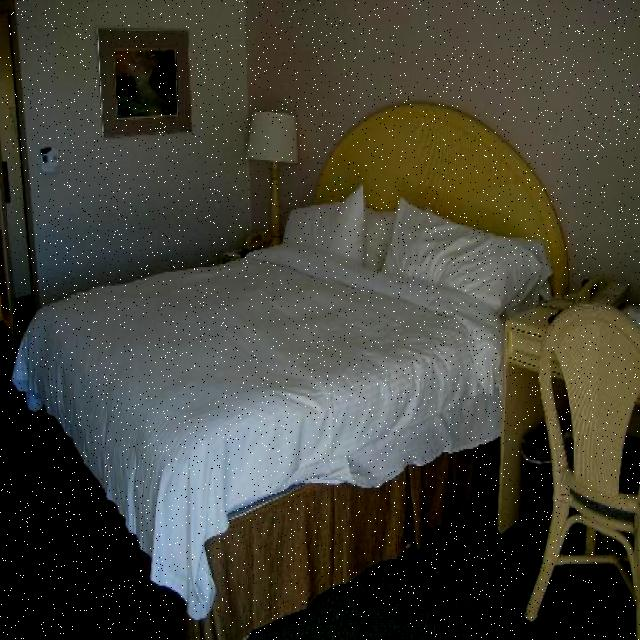bed: (18, 186, 545, 466)
